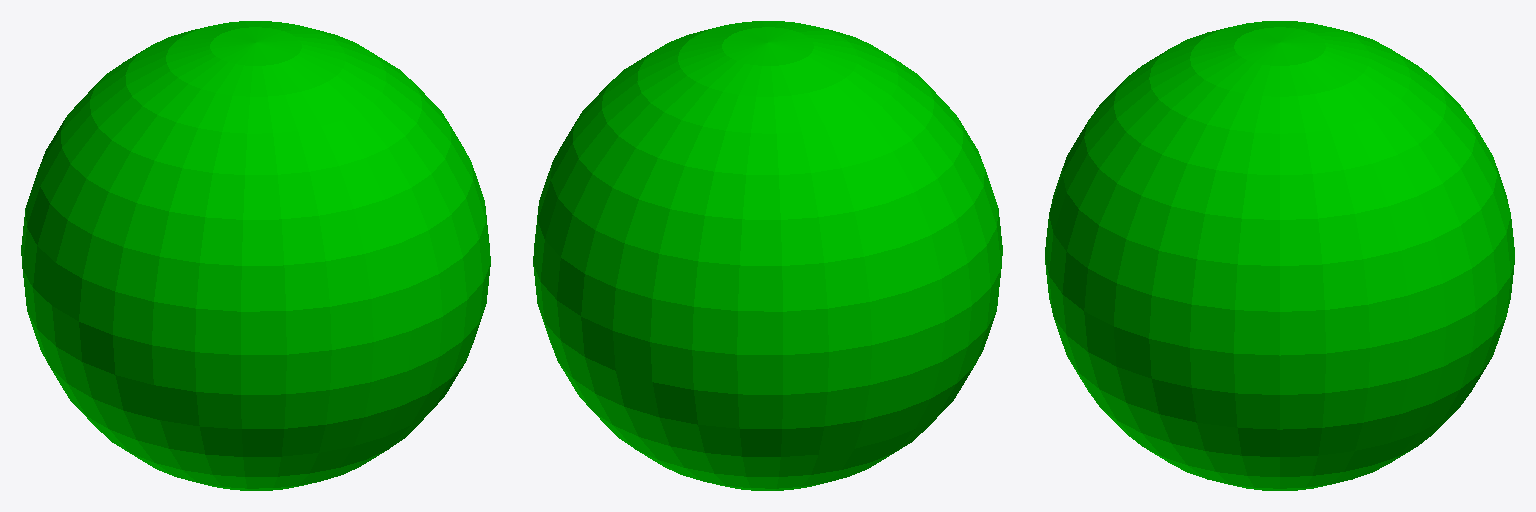
The model's file is PlayerOrb.obj.
3 views of the same model, side by side, from view 1: azimuth 30°, elevation 25°; view 2: azimuth 150°, elevation 25°; view 3: azimuth 270°, elevation 25° (orthographic).
Parts seen in each view (by area): view 1: Sphere; view 2: Sphere; view 3: Sphere.
Boxes of the visible parts, <box> form: Sphere: <box>21,21,490,490</box>; Sphere: <box>533,21,1002,490</box>; Sphere: <box>1045,21,1514,490</box>.
Bounding box in the file's own units: 2 × 2 × 2.